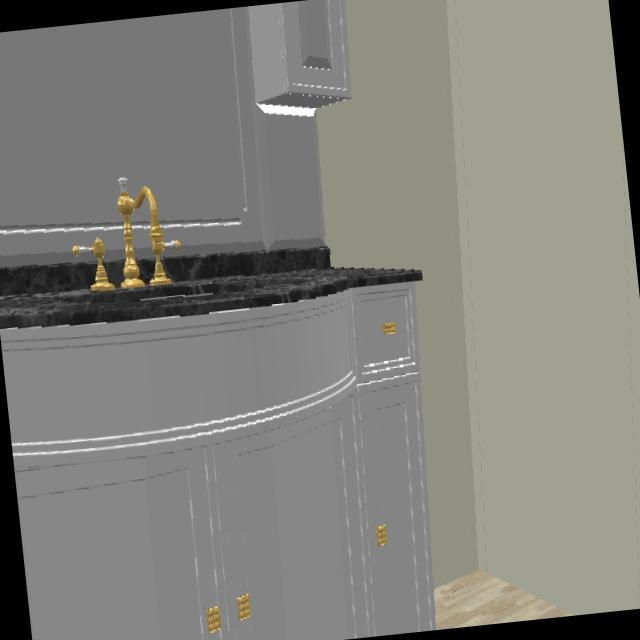cabinet: (0, 281, 434, 640)
washbasin: (117, 177, 171, 288), (72, 238, 114, 291)
